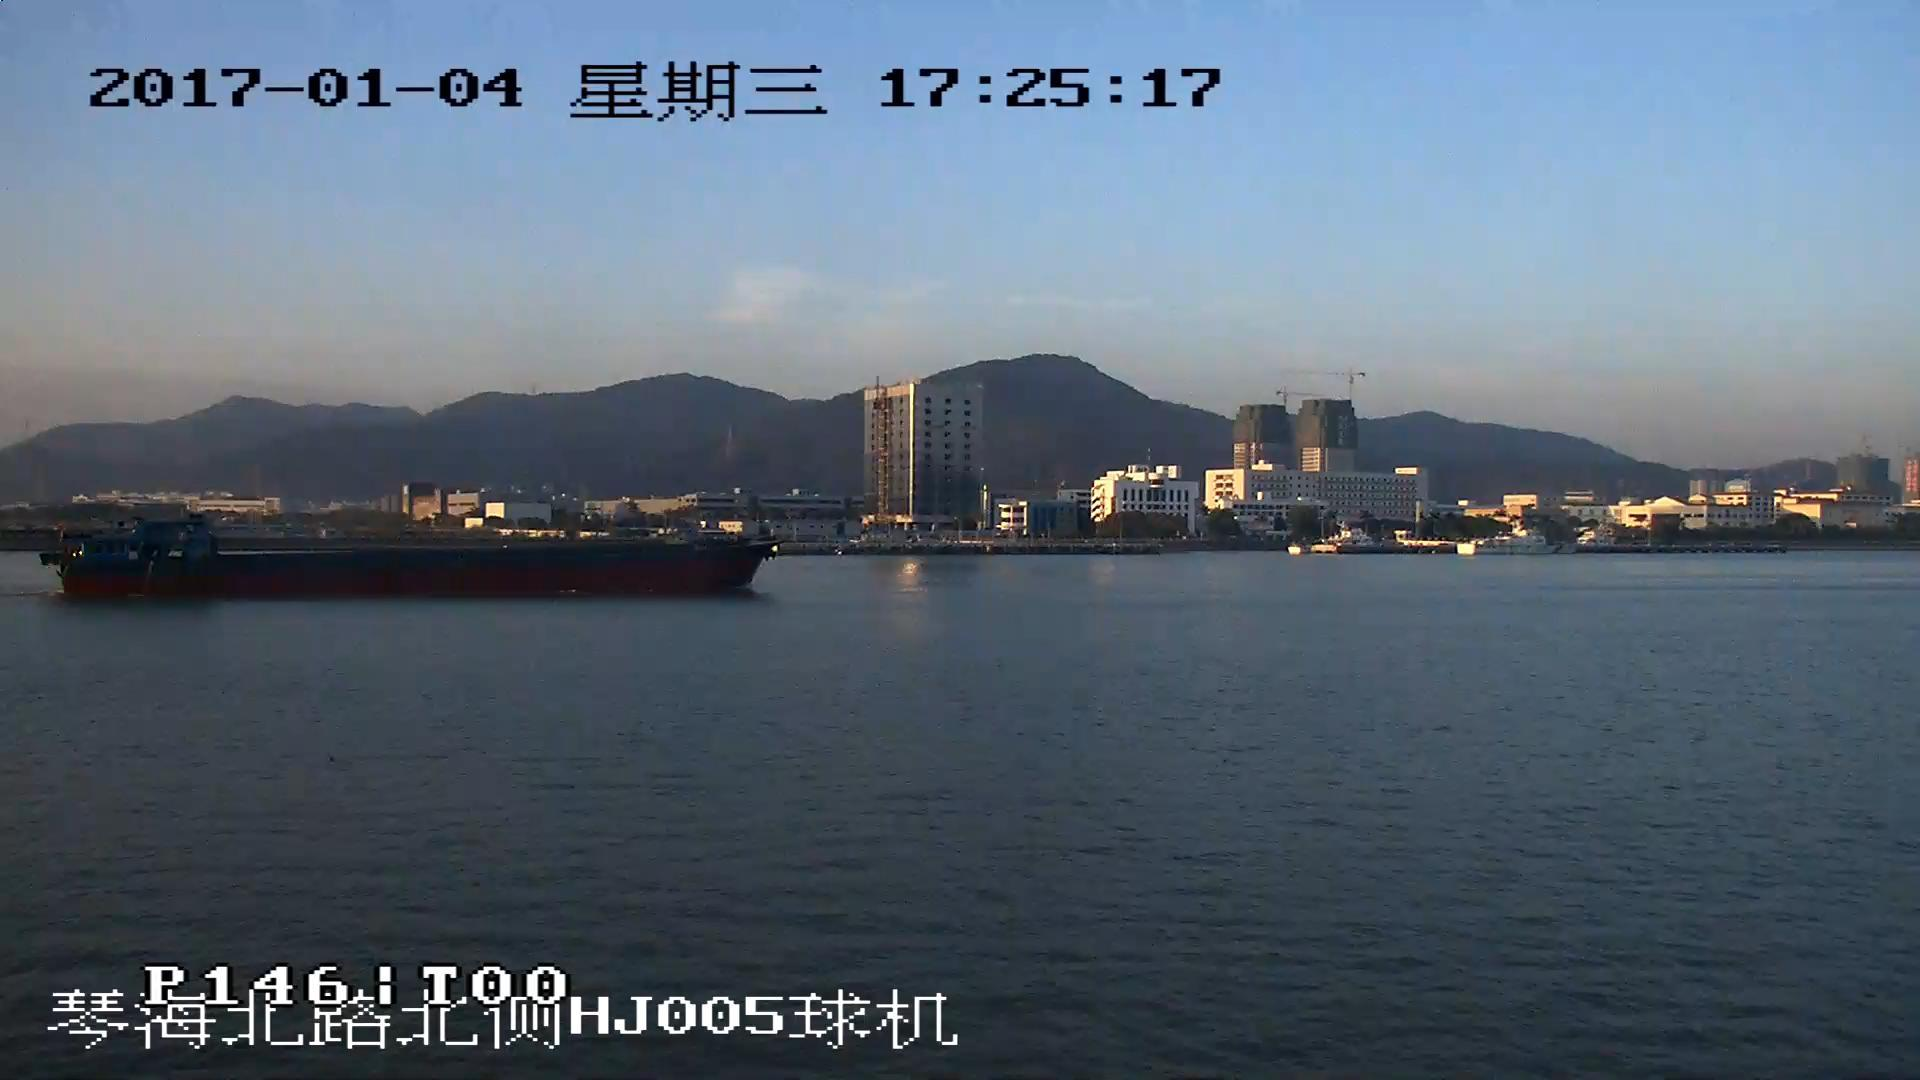Ship: (44, 500, 766, 591)
